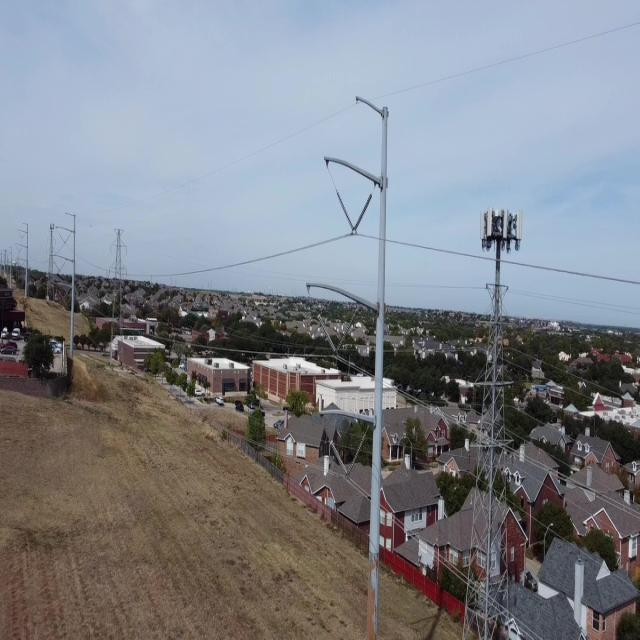杆塔: (440, 270, 520, 640), (104, 224, 130, 345), (43, 210, 59, 302)
正常绝缘子: (334, 311, 357, 357), (350, 192, 374, 235), (345, 433, 366, 481), (316, 310, 337, 356), (335, 188, 356, 232), (328, 437, 350, 479)
